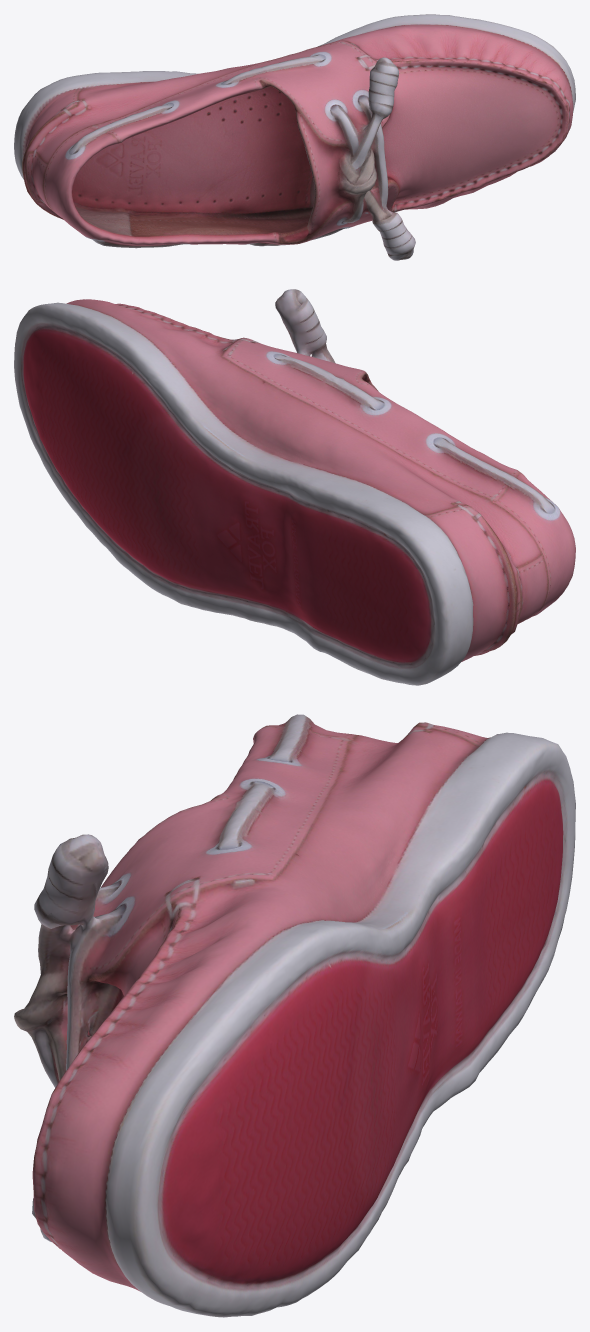
The picture shows the model from 3 angles, top to bottom: view 1: azimuth 30°, elevation 25°; view 2: azimuth 150°, elevation 25°; view 3: azimuth 270°, elevation 25°; orthographic projection. The views are drawn at different scales.
Parts seen in each view (by area): view 1: mmGroup001; view 2: mmGroup001; view 3: mmGroup001.
Part boxes in pixels (bbox=[...]): mmGroup001: bbox=[14, 14, 575, 260]; mmGroup001: bbox=[14, 289, 575, 685]; mmGroup001: bbox=[14, 714, 575, 1317].
Size of the model in its own units: 358 by 145 by 184.
